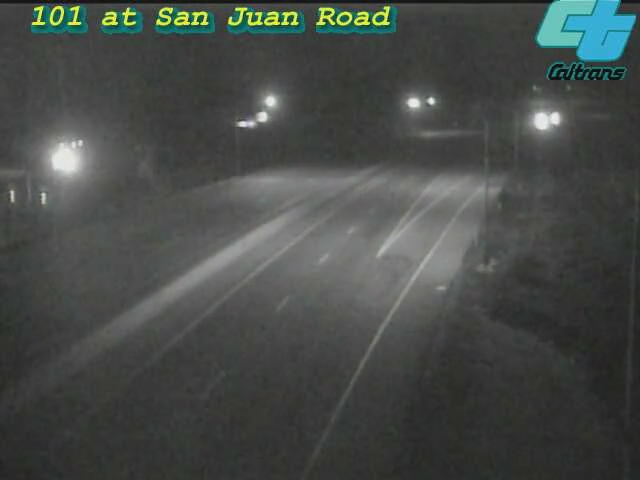vehicle: (516, 96, 566, 146), (528, 93, 578, 143)
